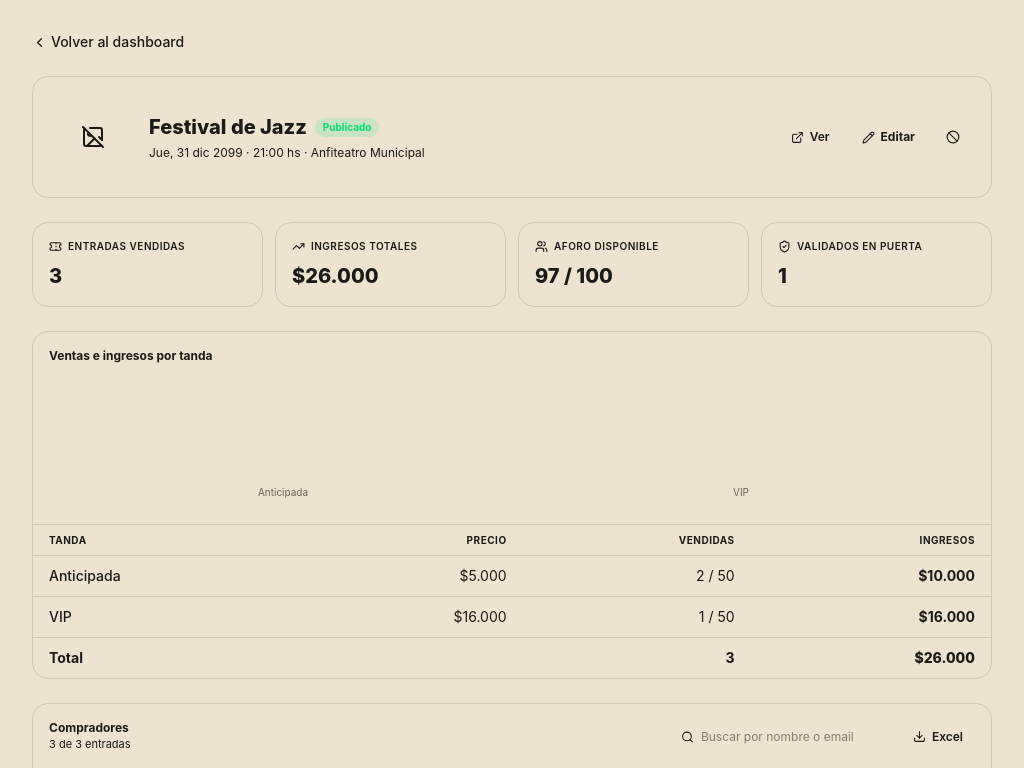
Test case: OrganizadorEventoDetallePage — cancelar el evento › pide confirmación con el aviso de que no se devuelven créditos; 'No, volver' no cancela nada
Expected: the heading "Festival de Jazz" is shown, [149, 113, 307, 141]
Step 1. Click the button titled "Cancelar evento" → x=953, y=137, box [935, 119, 971, 155]
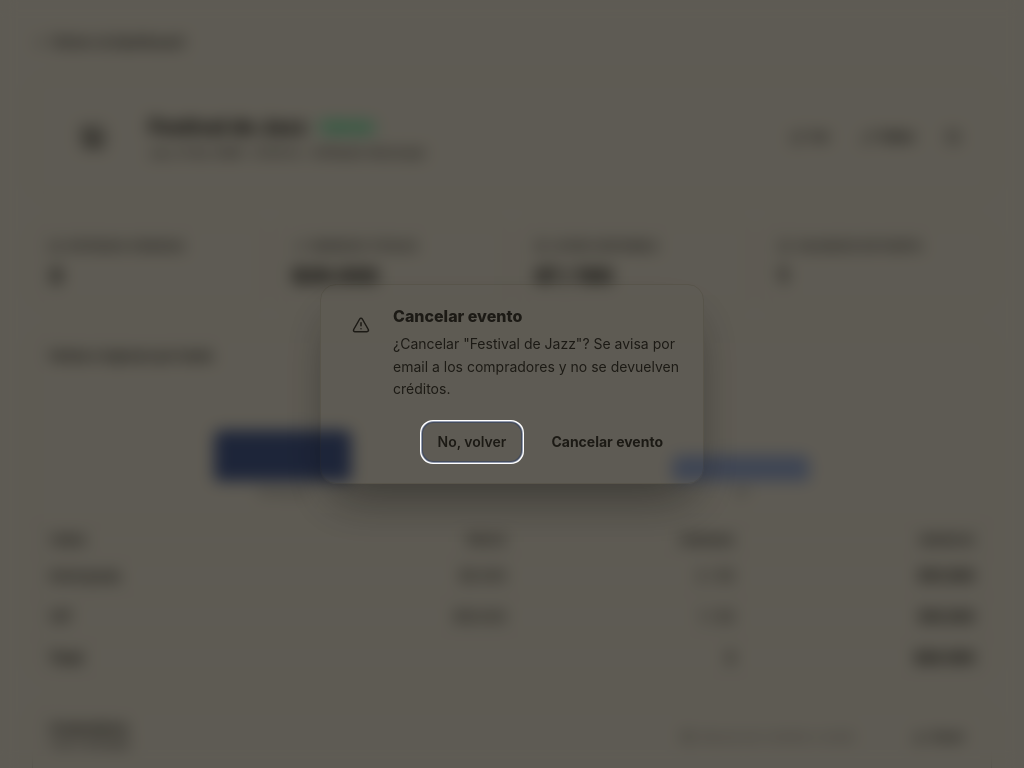
Now the text "no se devuelven créditos" is shown, box [393, 335, 679, 397]
Step 2. Click the button "No, volver" → x=472, y=442, box [420, 421, 523, 463]
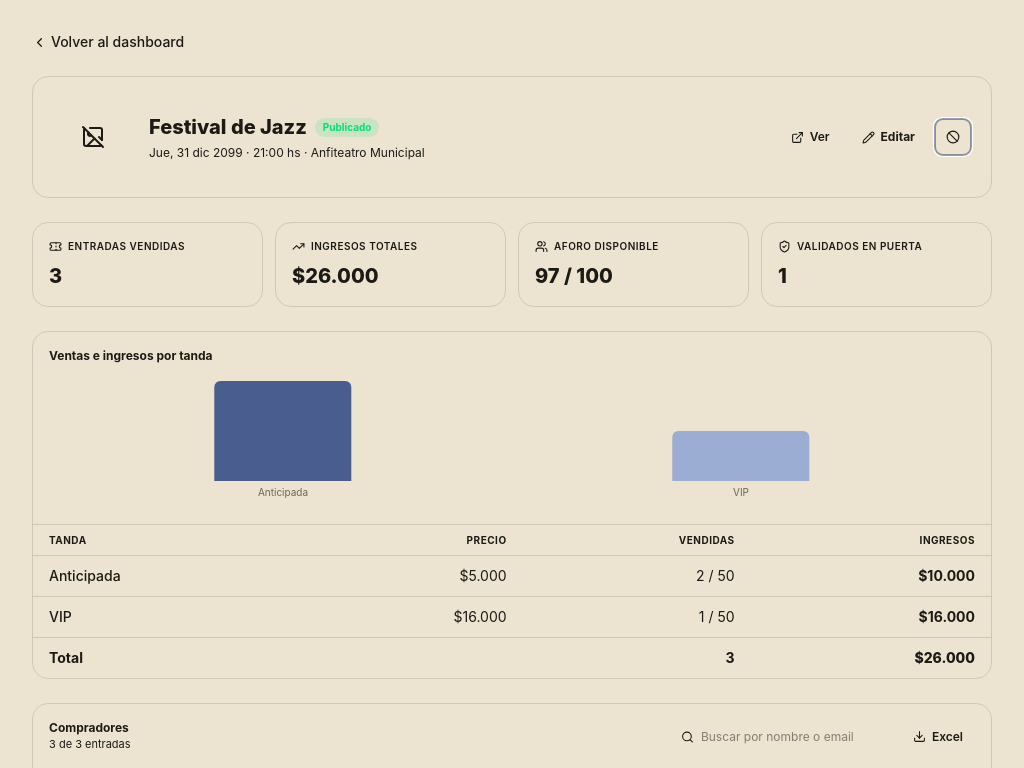
Now the dialog is gone
